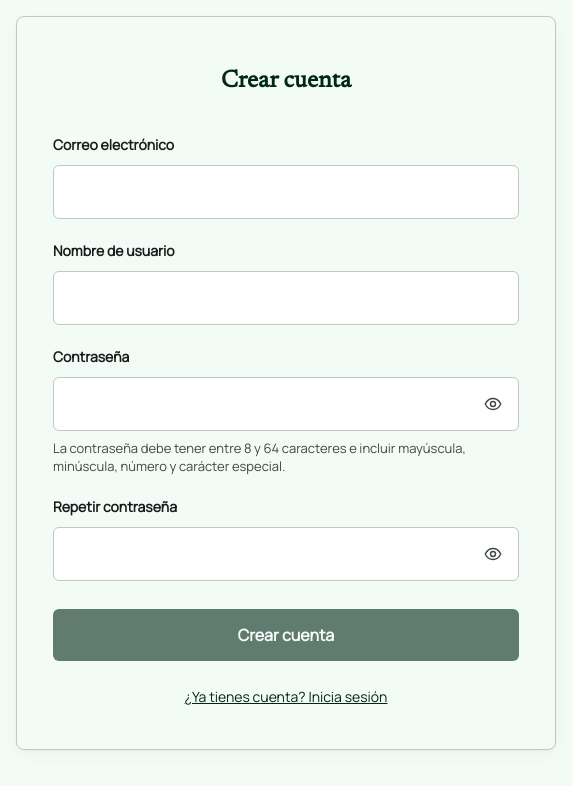
Test: Register Page › displays Campo obligatorio when email field is blurred while empty
Click the field labelled "Correo electrónico". click: (286,192)
box: [53,165,519,219]
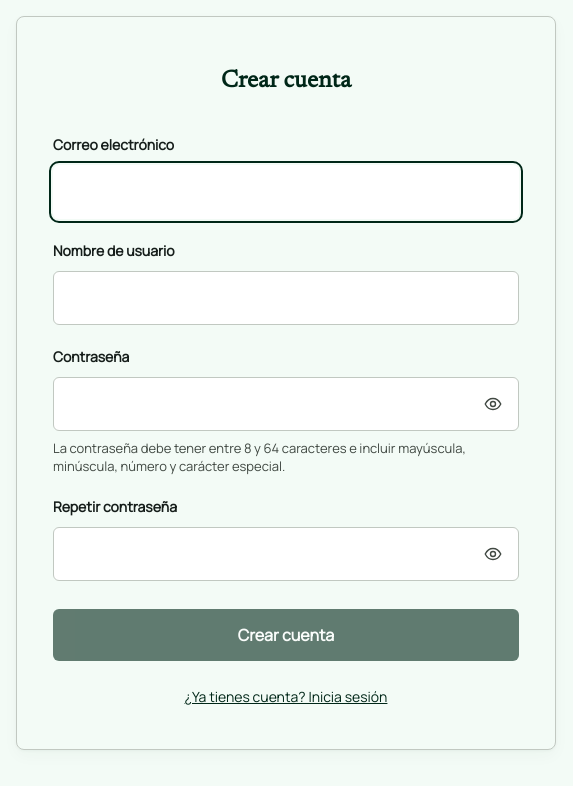
Press Tab
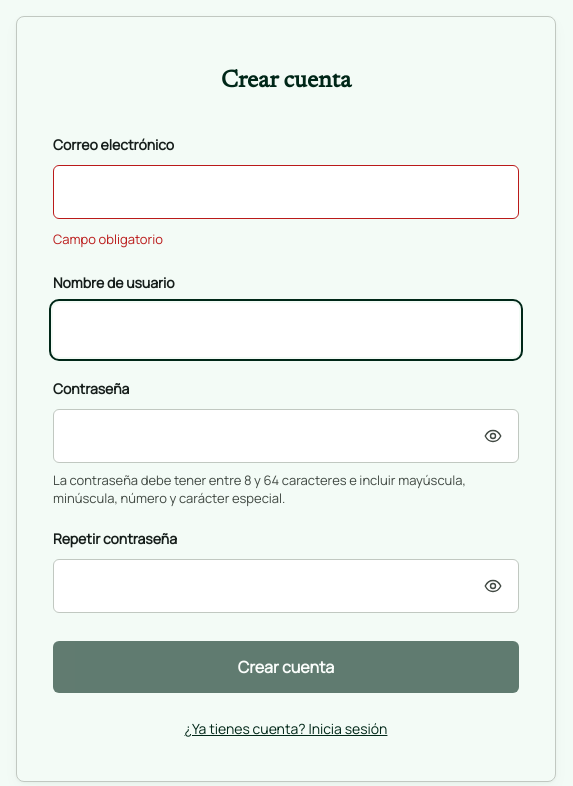
Check: the text "Campo obligatorio" is shown, box [53,230,163,248]
